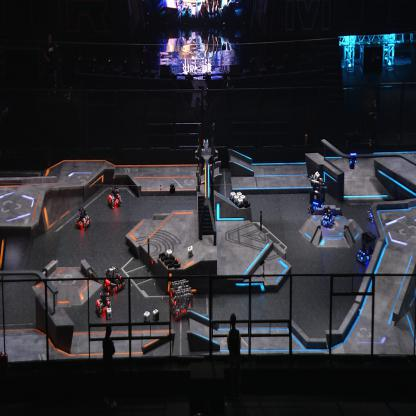car: (169, 278, 193, 320), (102, 264, 126, 295), (308, 175, 326, 213), (356, 230, 376, 264), (95, 286, 112, 317), (74, 206, 91, 230), (108, 186, 122, 209), (320, 206, 335, 227), (367, 202, 380, 222)
